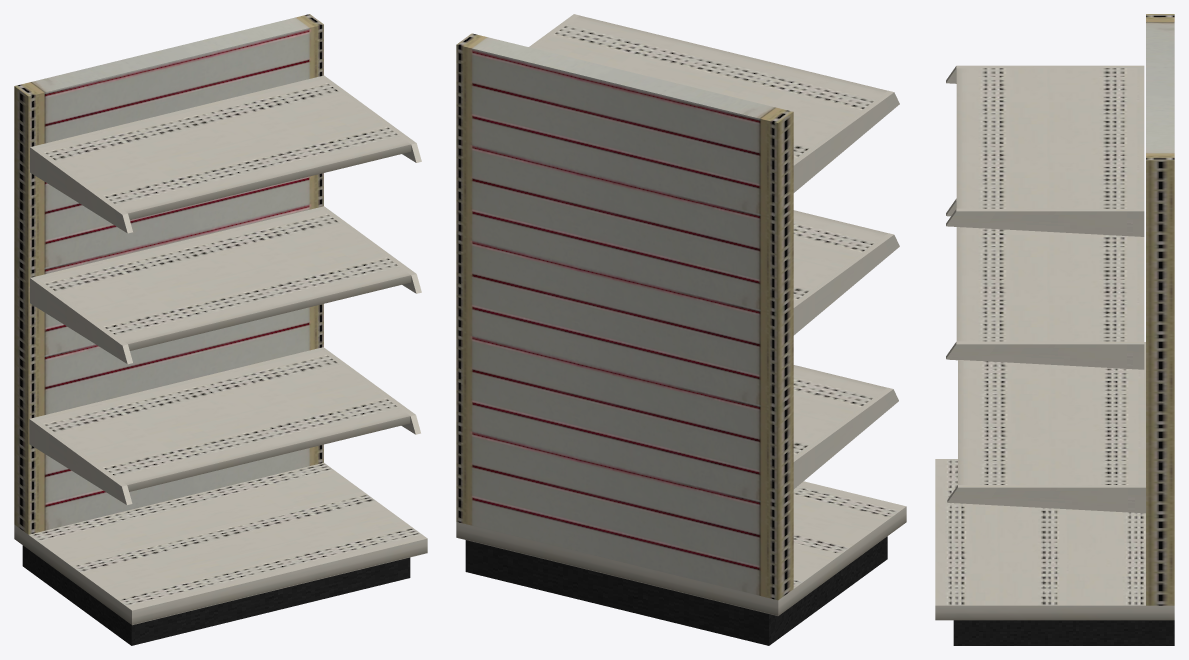
The model's file is Classic64_CommericalShelfShortEnd_Model.fbx.
The picture shows the model from 3 angles, left to right: view 1: azimuth 30°, elevation 25°; view 2: azimuth 150°, elevation 25°; view 3: azimuth 270°, elevation 25°; orthographic projection. The views are drawn at different scales.
Parts seen in each view (by area): view 1: Classic64_CommericalShelfShortEnd_Part000, Classic64_CommericalShelfShortEnd_Part001, Classic64_CommericalShelfShortEnd_Part003, Classic64_CommericalShelfShortEnd_Part004, Classic64_CommericalShelfShortEnd_Part005, Classic64_CommericalShelfShortEnd_Part002, Classic64_CommericalShelfShortEnd_Part006, Classic64_CommericalShelfShortEnd_Part010, Classic64_CommericalShelfShortEnd_Part008, Classic64_CommericalShelfShortEnd_Part007, Classic64_CommericalShelfShortEnd_Part009, Classic64_CommericalShelfShortEnd_Part011; view 2: Classic64_CommericalShelfShortEnd_Part000, Classic64_CommericalShelfShortEnd_Part003, Classic64_CommericalShelfShortEnd_Part001, Classic64_CommericalShelfShortEnd_Part002, Classic64_CommericalShelfShortEnd_Part004, Classic64_CommericalShelfShortEnd_Part005, Classic64_CommericalShelfShortEnd_Part010, Classic64_CommericalShelfShortEnd_Part008, Classic64_CommericalShelfShortEnd_Part006; view 3: Classic64_CommericalShelfShortEnd_Part003, Classic64_CommericalShelfShortEnd_Part001, Classic64_CommericalShelfShortEnd_Part005, Classic64_CommericalShelfShortEnd_Part004, Classic64_CommericalShelfShortEnd_Part000, Classic64_CommericalShelfShortEnd_Part002, Classic64_CommericalShelfShortEnd_Part011, Classic64_CommericalShelfShortEnd_Part009, Classic64_CommericalShelfShortEnd_Part007, Classic64_CommericalShelfShortEnd_Part010.
Boxes of the visible parts, x1,y1,x2,y2 form: Classic64_CommericalShelfShortEnd_Part000: (14,14,323,534); Classic64_CommericalShelfShortEnd_Part001: (14,462,427,625); Classic64_CommericalShelfShortEnd_Part003: (36,77,411,220); Classic64_CommericalShelfShortEnd_Part004: (36,207,411,350); Classic64_CommericalShelfShortEnd_Part005: (35,348,410,491); Classic64_CommericalShelfShortEnd_Part002: (22,545,410,645); Classic64_CommericalShelfShortEnd_Part006: (29,417,132,504); Classic64_CommericalShelfShortEnd_Part010: (30,146,132,233); Classic64_CommericalShelfShortEnd_Part008: (30,276,132,364); Classic64_CommericalShelfShortEnd_Part007: (318,347,420,434); Classic64_CommericalShelfShortEnd_Part009: (319,206,421,293); Classic64_CommericalShelfShortEnd_Part011: (319,75,421,162); Classic64_CommericalShelfShortEnd_Part000: (456,33,793,600); Classic64_CommericalShelfShortEnd_Part003: (535,15,887,159); Classic64_CommericalShelfShortEnd_Part001: (456,481,906,615); Classic64_CommericalShelfShortEnd_Part002: (465,536,887,645); Classic64_CommericalShelfShortEnd_Part004: (793,210,887,301); Classic64_CommericalShelfShortEnd_Part005: (793,365,886,455); Classic64_CommericalShelfShortEnd_Part010: (793,90,899,192); Classic64_CommericalShelfShortEnd_Part008: (793,233,899,335); Classic64_CommericalShelfShortEnd_Part006: (793,387,898,489); Classic64_CommericalShelfShortEnd_Part003: (956,68,1144,208); Classic64_CommericalShelfShortEnd_Part001: (935,459,1174,620); Classic64_CommericalShelfShortEnd_Part005: (958,344,1145,484); Classic64_CommericalShelfShortEnd_Part004: (956,227,1144,341); Classic64_CommericalShelfShortEnd_Part000: (1146,14,1174,605); Classic64_CommericalShelfShortEnd_Part002: (953,620,1174,645); Classic64_CommericalShelfShortEnd_Part011: (946,208,1144,236); Classic64_CommericalShelfShortEnd_Part009: (946,341,1144,369); Classic64_CommericalShelfShortEnd_Part007: (947,485,1145,513); Classic64_CommericalShelfShortEnd_Part010: (946,65,1144,83).
Bounding box in the file's own units: 0.9144 × 1.43 × 0.6318.
4 materials, 4 textured.
